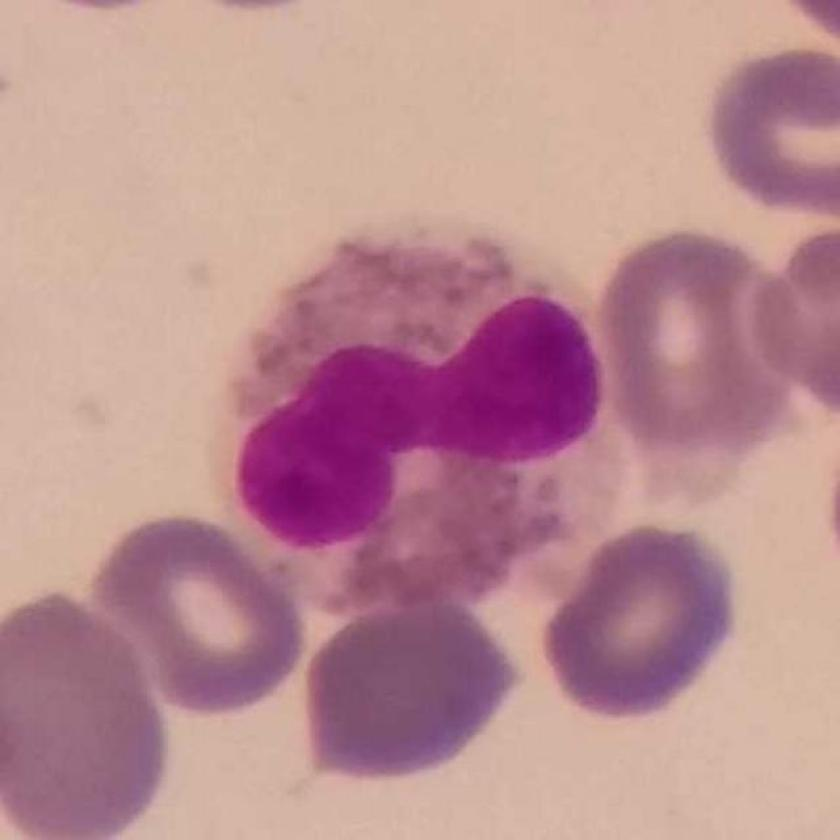eosinophil: (219, 211, 645, 617)
